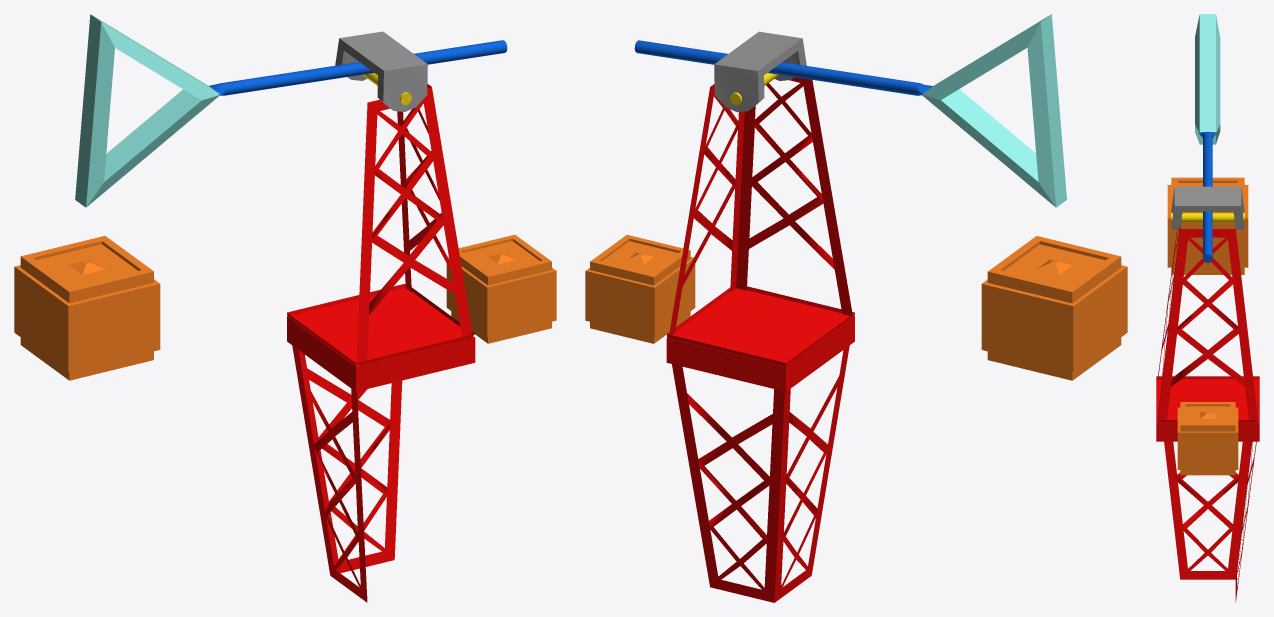
The picture shows the model from 3 angles, left to right: view 1: azimuth 30°, elevation 25°; view 2: azimuth 150°, elevation 25°; view 3: azimuth 270°, elevation 25°; orthographic projection. The views are drawn at different scales.
Parts seen in each view (by area): view 1: Box008, Box001, Box006, Box002, Box009, Box003, Box004, Box007, Cylinder002, Box005; view 2: Box008, Box001, Box006, Box003, Box009, Box002, Box004, Box005, Box007, Cylinder002; view 3: Box005, Box004, Box009, Box008, Box001, Box006, Box007, Cylinder002, Box003, Box002, Cylinder001.
Boxes of the visible parts, x1,y1,x2,y2 form: Box008: (14, 236, 160, 380); Box001: (287, 287, 475, 391); Box006: (75, 14, 219, 207); Box002: (356, 87, 472, 365); Box009: (446, 234, 556, 343); Box003: (287, 283, 474, 573); Box004: (287, 287, 474, 602); Box007: (335, 31, 427, 111); Cylinder002: (209, 40, 507, 95); Box005: (397, 84, 451, 292); Box008: (981, 236, 1127, 380); Box001: (666, 288, 854, 391); Box006: (923, 14, 1066, 207); Box003: (666, 286, 854, 602); Box009: (585, 234, 695, 343); Box002: (736, 77, 852, 315); Box004: (667, 288, 854, 602); Box005: (669, 84, 744, 335); Box007: (714, 31, 806, 112); Cylinder002: (634, 40, 932, 95); Box005: (1157, 229, 1258, 422); Box004: (1156, 376, 1259, 579); Box009: (1177, 402, 1238, 475); Box008: (1167, 177, 1248, 274); Box001: (1156, 379, 1259, 441); Box006: (1195, 14, 1220, 144); Box007: (1172, 186, 1243, 229); Cylinder002: (1199, 131, 1216, 262); Box003: (1156, 377, 1259, 602); Box002: (1157, 226, 1180, 419); Cylinder001: (1171, 212, 1244, 222).
Bounding box in the file's own units: 2070 × 2531 × 500.
